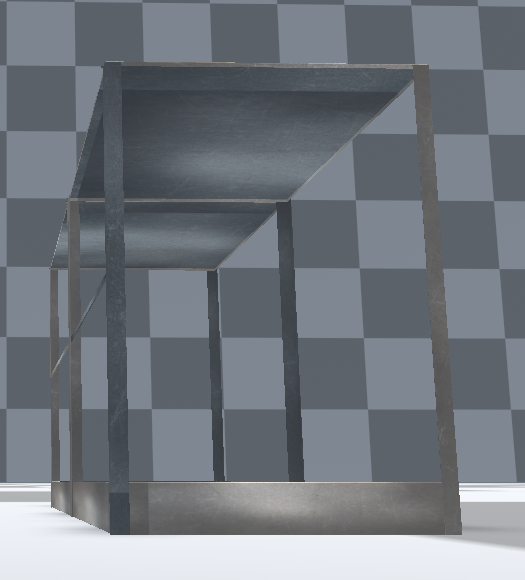Rack: (48, 58, 465, 541)
